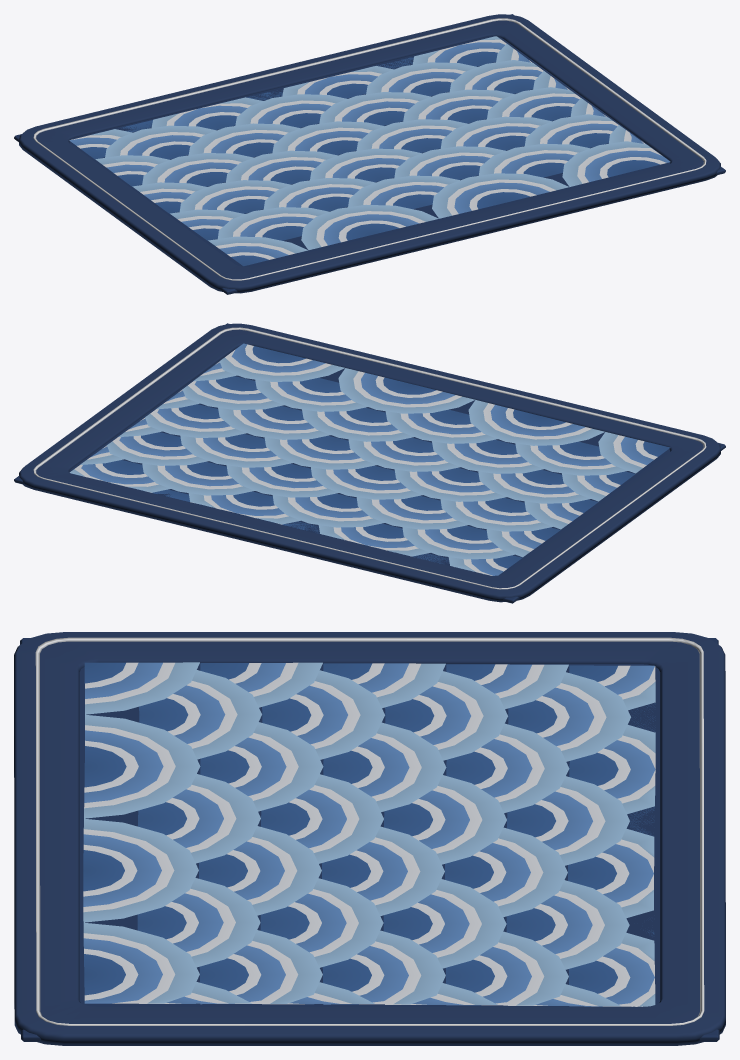
File: furn-waveRug.glb
3 views of the same model, one above another, from view 1: azimuth 30°, elevation 25°; view 2: azimuth 150°, elevation 25°; view 3: azimuth 270°, elevation 25° (orthographic). The views are drawn at different scales.
Visible parts, largest first — view 1: furn-waveRug; view 2: furn-waveRug; view 3: furn-waveRug.
Part boxes in pixels (bbox=[...]): furn-waveRug: bbox=[14, 14, 725, 294]; furn-waveRug: bbox=[14, 323, 725, 603]; furn-waveRug: bbox=[14, 632, 725, 1045].
Bounding box in the file's own units: 1.95 × 0.0288 × 1.45.
